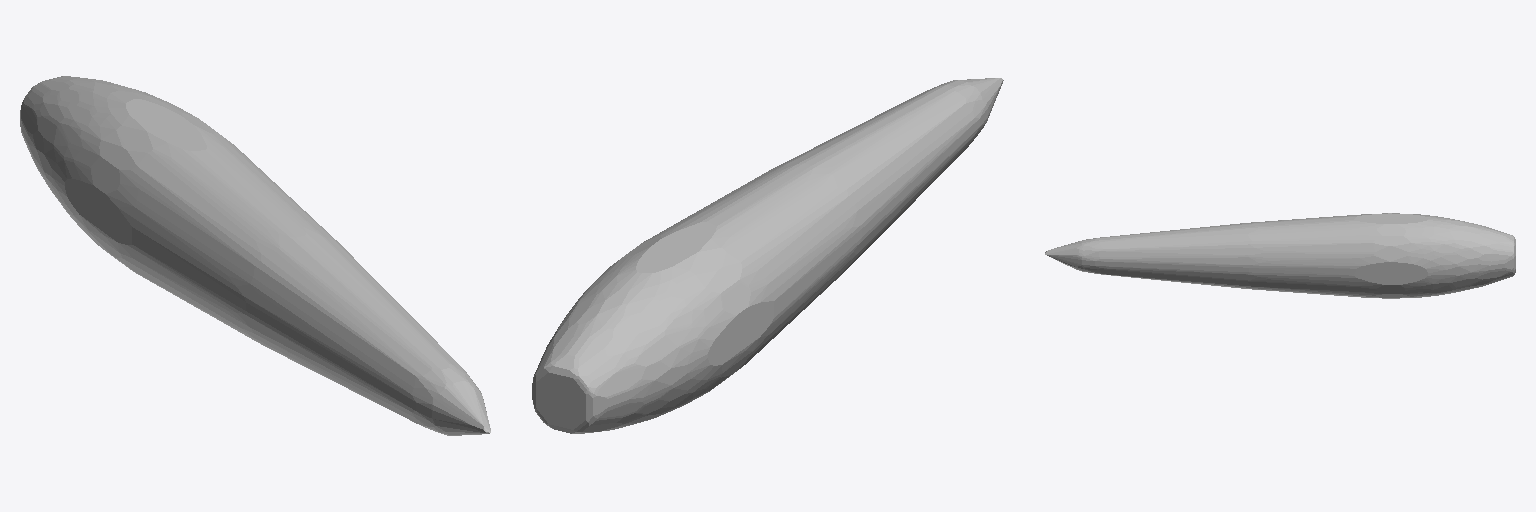
robot.urdf — root:
<?xml version="1.0"?>
<robot name="root">
  <link name="base_link">
    <visual>
      <origin xyz="0 0 0" rpy="0 0 0" />
      <geometry>
        <mesh filename="../meshes/unidex_sem_Pen-aaea1d42fe3de1b0eeed1ac073f42256_010.obj" scale="1.0000E+00 1.0000E+00 1.0000E+00" />
      </geometry>
      <material name="">
        <color rgba="7.50E-01 7.50E-01 7.50E-01 1" />
      </material>
    </visual>
    <collision>
      <origin xyz="0 0 0" rpy="0 0 0" />
      <geometry>
        <mesh filename="../meshes/unidex_sem_Pen-aaea1d42fe3de1b0eeed1ac073f42256_010.obj" scale="1.0000E+00 1.0000E+00 1.0000E+00" />
      </geometry>
    </collision>
  </link>
</robot>

--- What the picture shows (computed from the rendered views, not written in the file) ---
Views: 3 orthographic renders of the robot side by side, from view 1: azimuth 30°, elevation 25°; view 2: azimuth 150°, elevation 25°; view 3: azimuth 270°, elevation 25°.
Model root with 1 links and 0 joints (none), rooted at base_link, posed every joint at zero.
Visible links, largest first — view 1: base_link; view 2: base_link; view 3: base_link.
Boxes of the visible links, <box> form: base_link: <box>20,76,490,435</box>; base_link: <box>532,78,1003,433</box>; base_link: <box>1045,213,1515,298</box>.
Bounding box of the posed robot: 0.034 × 0.1953 × 0.034 m (x, y, z).
1 mesh visuals loaded from 1 distinct referenced files (1 OBJ).
